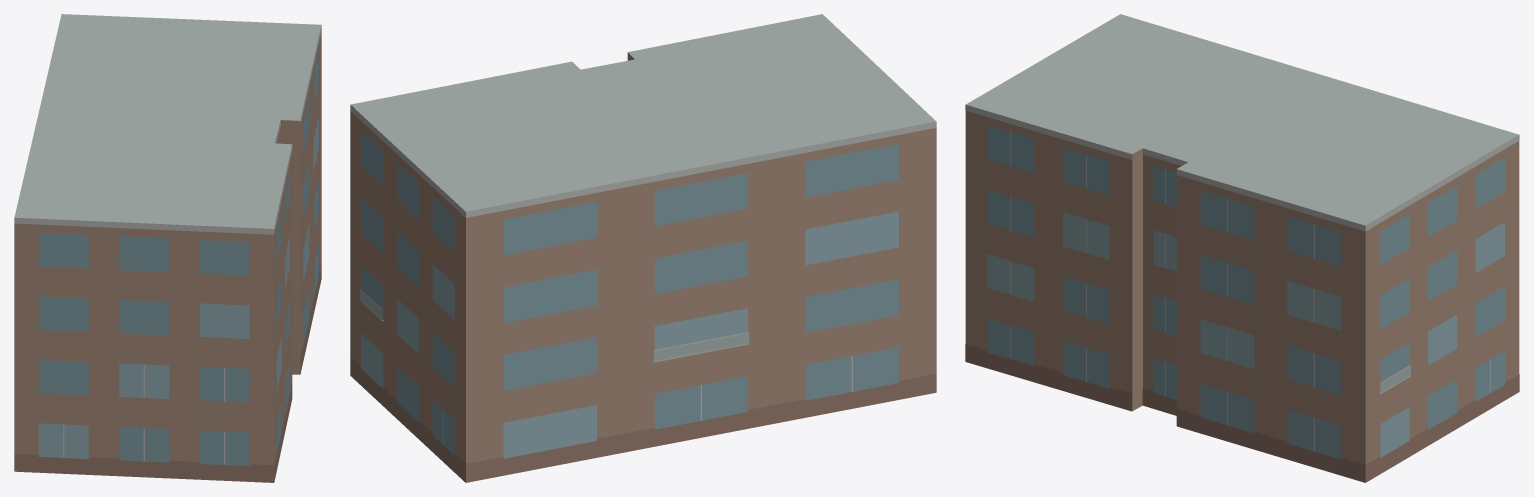
Rendered from survey-upis-33015227.glb.
3 views of the same model, side by side, from view 1: azimuth 30°, elevation 25°; view 2: azimuth 150°, elevation 25°; view 3: azimuth 270°, elevation 25° (orthographic). The views are drawn at different scales.
Parts seen in each view (by area): view 1: survey-upis-33015227.tmp; view 2: survey-upis-33015227.tmp; view 3: survey-upis-33015227.tmp.
Part boxes in pixels (x1,y1,x2,y2): survey-upis-33015227.tmp: (14,14,321,482); survey-upis-33015227.tmp: (350,14,936,482); survey-upis-33015227.tmp: (965,14,1519,482).
Bounding box in the file's own units: 18.85 × 10.68 × 20.85.
